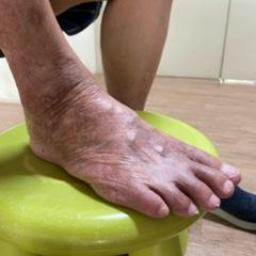Lateral View -Right Foot-: (4, 53, 249, 240)
